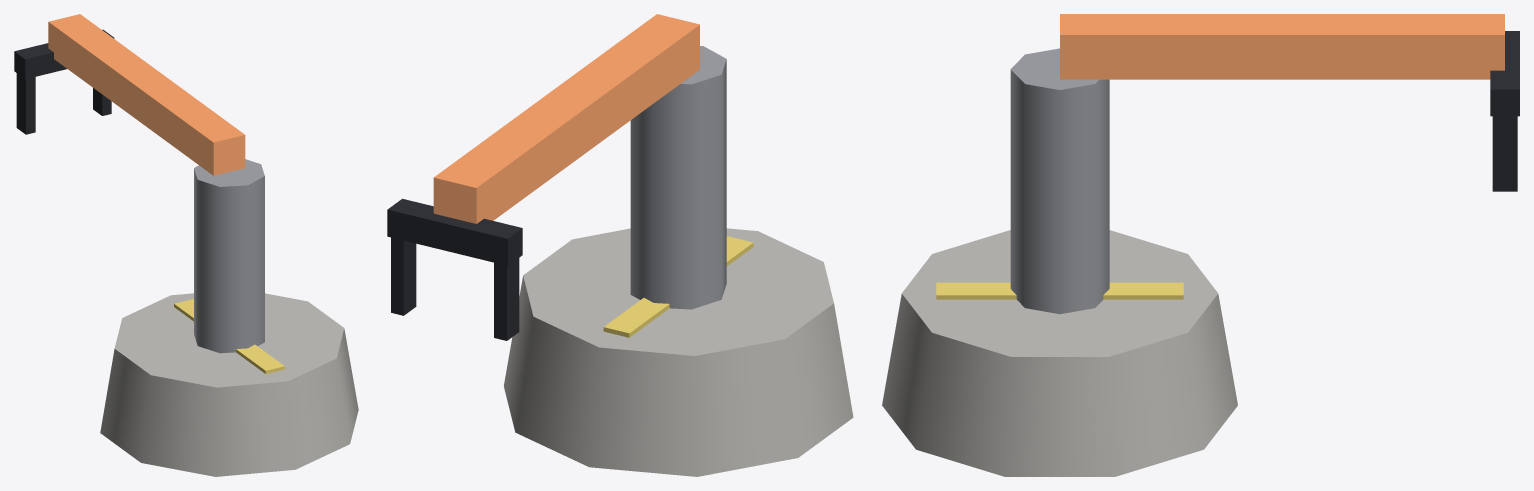
The model's file is build_grabber.glb.
The picture shows the model from 3 angles, left to right: view 1: azimuth 30°, elevation 25°; view 2: azimuth 150°, elevation 25°; view 3: azimuth 270°, elevation 25°; orthographic projection. The views are drawn at different scales.
Parts seen in each view (by area): view 1: Baked, _MeshInstance3D_497, _MeshInstance3D_498, _MeshInstance3D_499, _MeshInstance3D_500; view 2: Baked, _MeshInstance3D_497, _MeshInstance3D_498, _MeshInstance3D_499, _MeshInstance3D_500; view 3: Baked, _MeshInstance3D_497, _MeshInstance3D_498, _MeshInstance3D_500.
Boxes of the visible parts, x1,y1,x2,y2 form: Baked: (100,159,358,476); _MeshInstance3D_497: (48,14,245,175); _MeshInstance3D_498: (14,29,114,79); _MeshInstance3D_499: (16,73,35,134); _MeshInstance3D_500: (93,88,111,115); Baked: (504,46,853,476); _MeshInstance3D_497: (433,14,699,223); _MeshInstance3D_498: (387,198,522,265); _MeshInstance3D_499: (494,258,519,340); _MeshInstance3D_500: (391,237,416,315); Baked: (882,48,1237,476); _MeshInstance3D_497: (1060,14,1504,79); _MeshInstance3D_498: (1490,31,1519,116); _MeshInstance3D_500: (1492,116,1517,191).
Bounding box in the file's own units: 0.6848 × 0.85 × 1.29.
